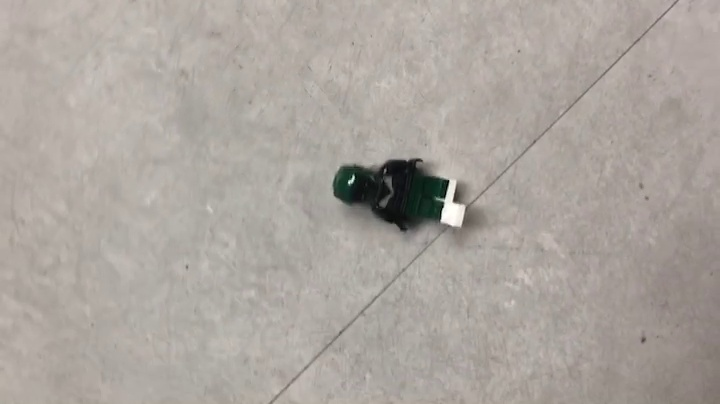people: (332, 157, 467, 234)
